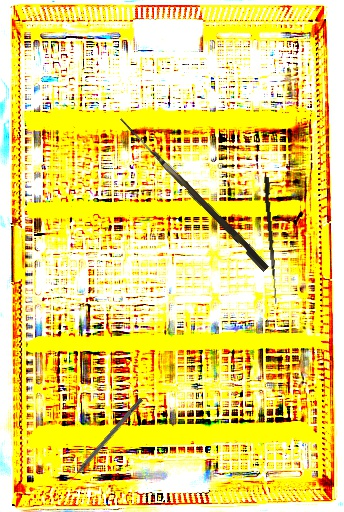Hook Surgical: (113, 118, 272, 272), (64, 397, 144, 487), (261, 176, 283, 305)
